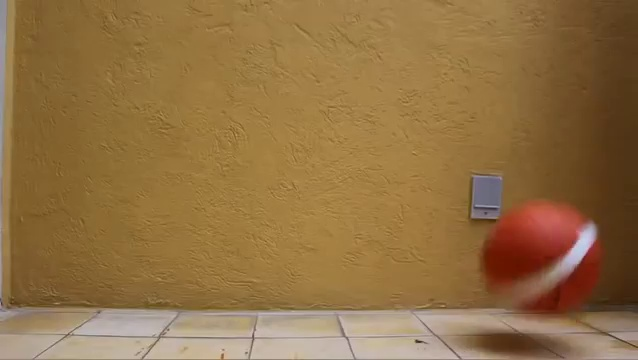ball: (480, 197, 606, 316)
